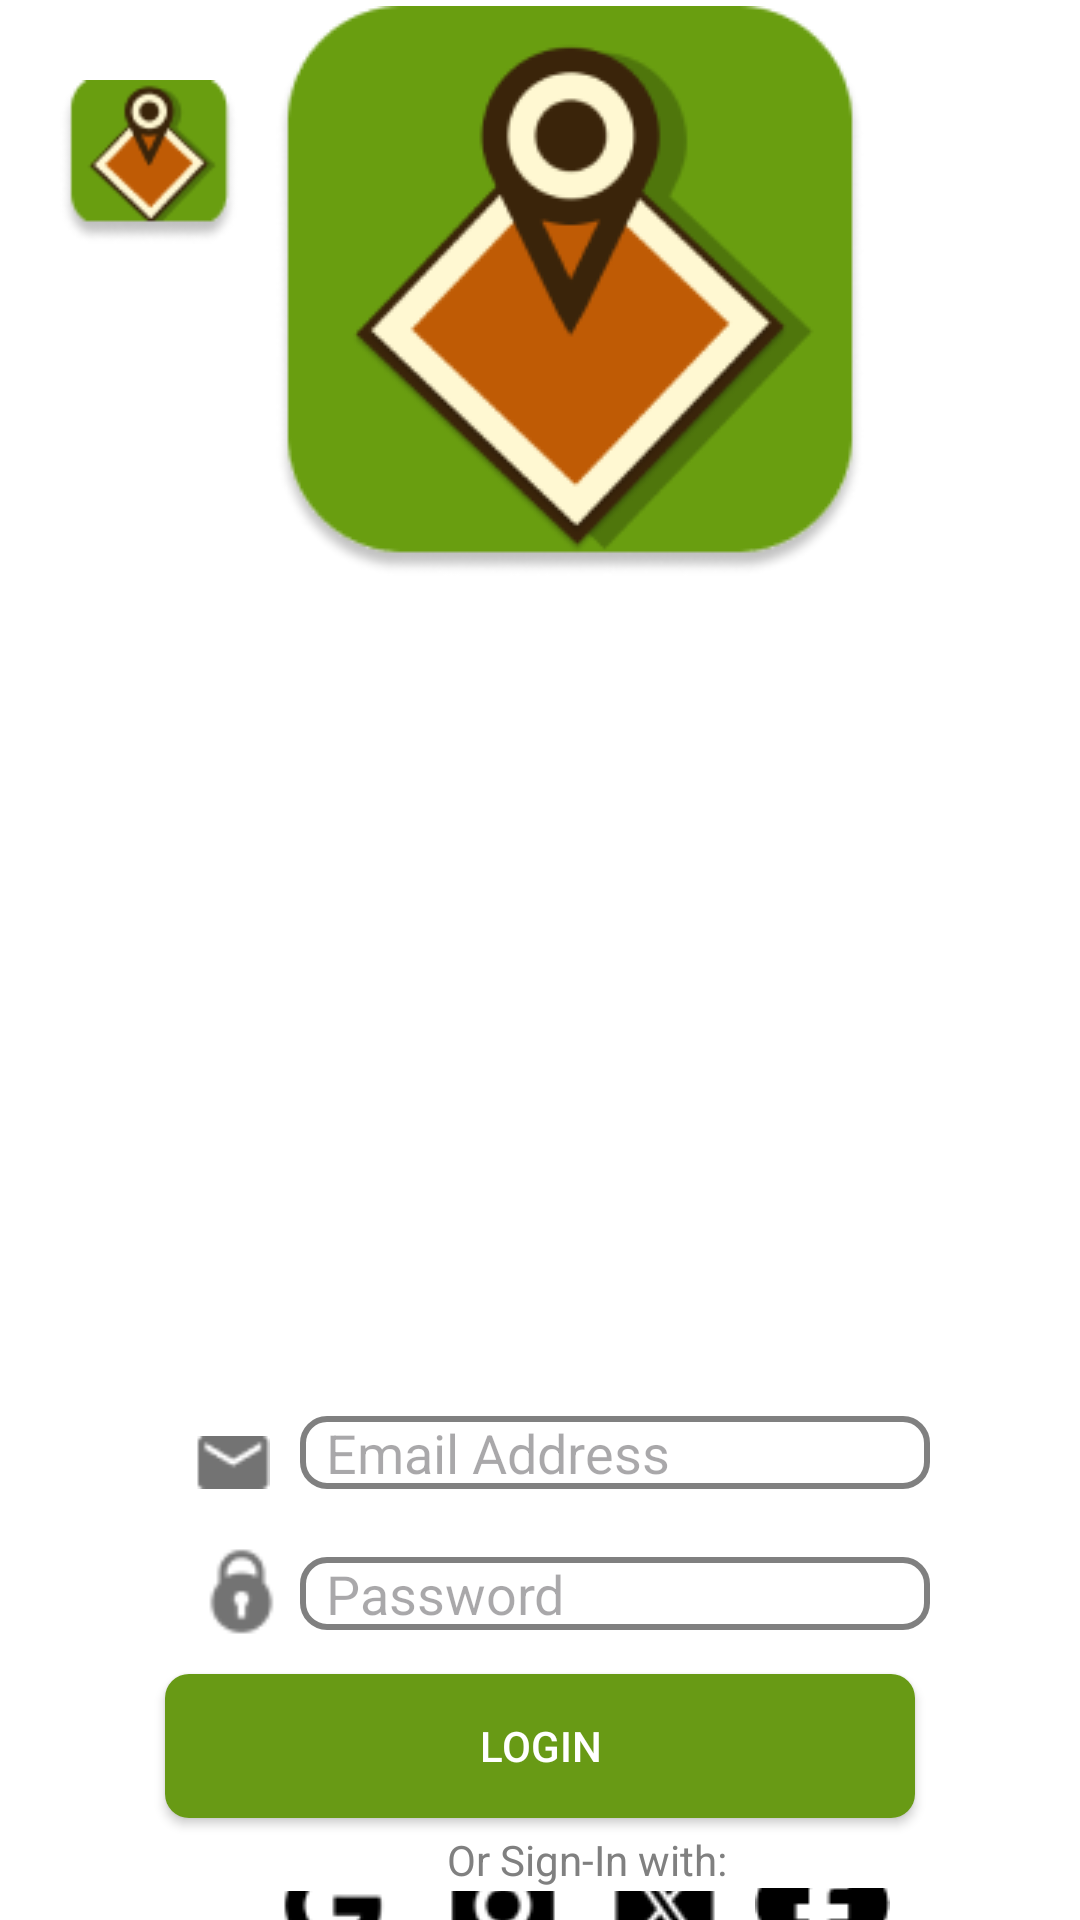

Where icons sit on this 1080*1920 app screen, as (x1, y1, x2, y2):
lock: (210, 1549, 273, 1634)
